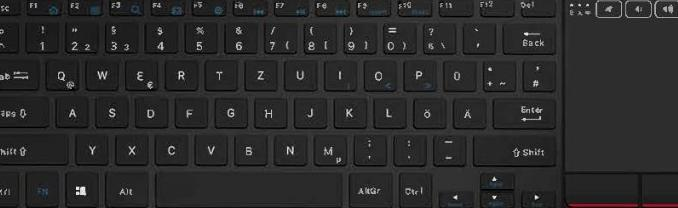0: (379, 20, 415, 53)
1: (24, 19, 58, 52)
2: (62, 18, 97, 51)
3: (103, 19, 138, 52)
4: (143, 18, 177, 52)
5: (182, 18, 217, 52)
6: (223, 20, 258, 52)
7: (262, 20, 296, 53)
8: (301, 20, 335, 52)
9: (340, 20, 375, 53)
a: (53, 92, 87, 126)
accent: (460, 20, 494, 52)
ae: (450, 94, 484, 127)
alt-left: (103, 167, 149, 207)
altgr-right: (345, 168, 392, 207)
b: (231, 131, 267, 164)
c: (152, 130, 189, 164)
caret: (1, 19, 18, 51)
comma: (351, 130, 385, 163)
d: (132, 93, 167, 127)
del: (500, 19, 555, 53)
e: (122, 56, 156, 89)
enter: (490, 93, 555, 127)
f: (172, 94, 206, 126)
g: (212, 94, 246, 126)
h: (251, 94, 285, 126)
hash: (520, 56, 555, 90)
i: (322, 56, 355, 89)
j: (292, 94, 326, 127)
k: (331, 93, 366, 127)
keyboard: (1, 1, 678, 208)
l: (371, 94, 405, 126)
m: (311, 130, 346, 165)
minus: (430, 131, 464, 164)
n: (271, 130, 306, 164)
o: (360, 56, 396, 89)
oe: (411, 94, 445, 127)
p: (401, 56, 435, 89)
plus: (479, 57, 514, 90)
point: (391, 130, 425, 163)
q: (43, 55, 78, 89)
r: (162, 57, 197, 89)
s: (93, 92, 128, 127)
shift-left: (1, 129, 68, 163)
shift-lock: (1, 91, 48, 126)
shift-right: (471, 130, 555, 165)
space: (153, 168, 341, 207)
ss: (419, 20, 454, 52)
strg-left: (1, 169, 22, 208)
strg-right: (396, 168, 430, 207)
t: (202, 56, 235, 89)
tab: (1, 52, 38, 89)
u: (282, 56, 316, 89)
ue: (440, 56, 475, 90)
v: (192, 129, 227, 164)
w: (83, 53, 118, 89)
x: (113, 130, 149, 163)
y: (74, 130, 109, 163)
z: (242, 55, 277, 89)
